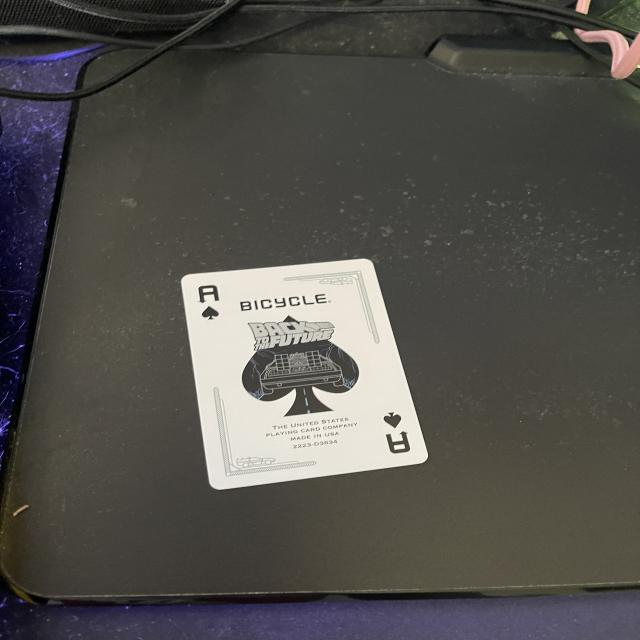Ace of spades: (183, 261, 425, 487)
